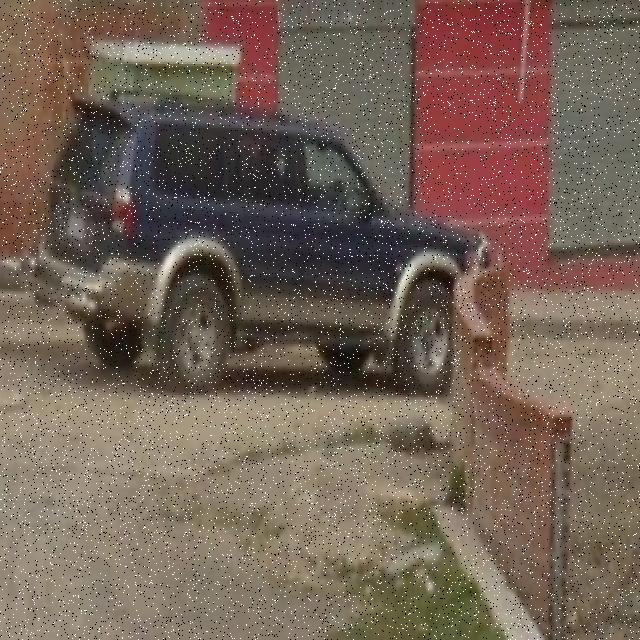cars: (35, 100, 491, 394)
